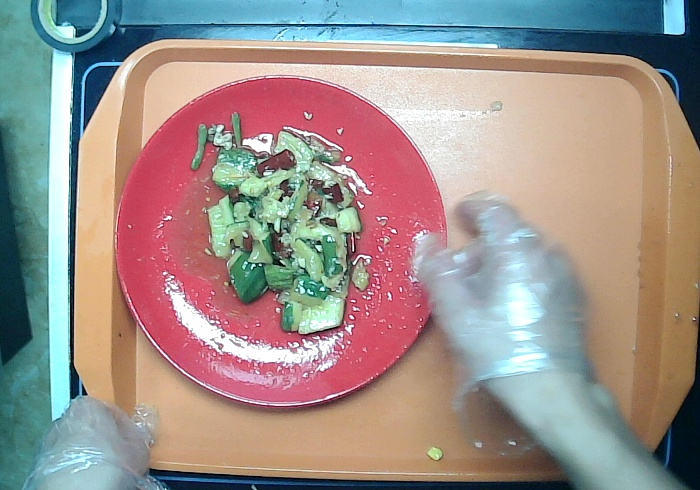HZYJPL-Hong_Se_Yuan_Pan: (109, 71, 450, 416)
